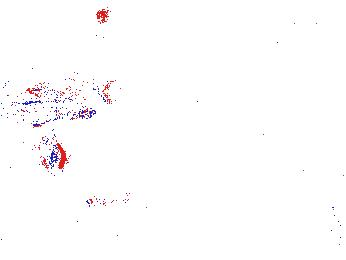X-ray fish: (46, 138, 67, 172)
red belly glassfish: (83, 189, 136, 211), (1, 104, 22, 124)
redtail glassfish: (25, 73, 114, 106), (7, 93, 98, 123)
